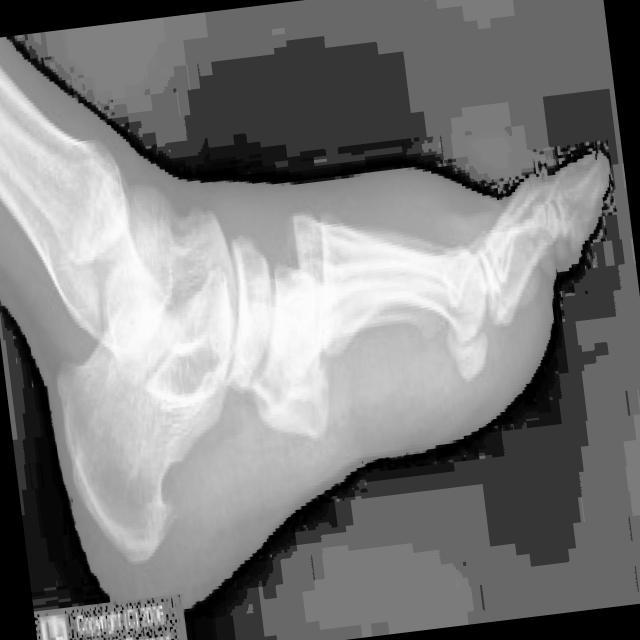Fracture Dislocation: (277, 220, 352, 348)
